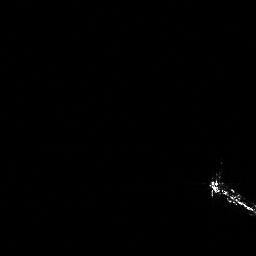ship: (204, 170, 256, 220)
